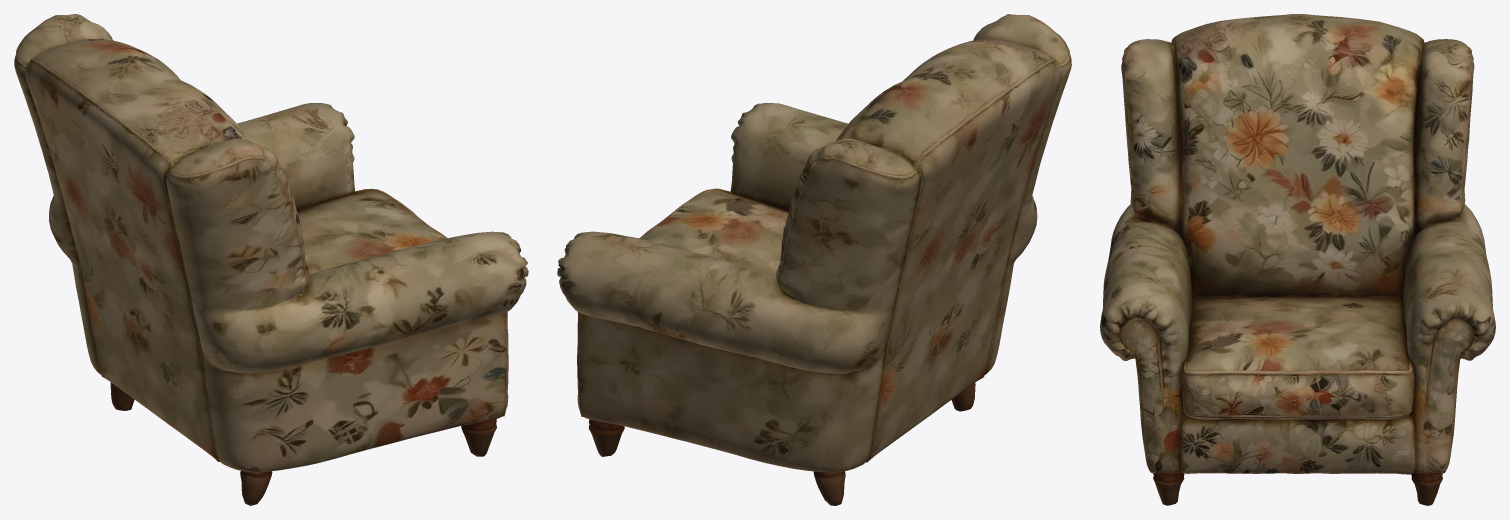
Rendered from armchair.glb.
The picture shows the model from 3 angles, left to right: view 1: azimuth 30°, elevation 25°; view 2: azimuth 150°, elevation 25°; view 3: azimuth 270°, elevation 25°; orthographic projection. The views are drawn at different scales.
Parts seen in each view (by area): view 1: tripo_node_39ebb19b-b871-410d-ab6d-6a5603381251; view 2: tripo_node_39ebb19b-b871-410d-ab6d-6a5603381251; view 3: tripo_node_39ebb19b-b871-410d-ab6d-6a5603381251.
Part boxes in pixels (box(x1,y1,x2,y2)): tripo_node_39ebb19b-b871-410d-ab6d-6a5603381251: box(14, 14, 528, 505); tripo_node_39ebb19b-b871-410d-ab6d-6a5603381251: box(557, 14, 1071, 505); tripo_node_39ebb19b-b871-410d-ab6d-6a5603381251: box(1100, 14, 1495, 505).
Size of the model in its own units: 0.9645 by 1 by 0.9938.
Materials: 1 (1 with a texture image).
